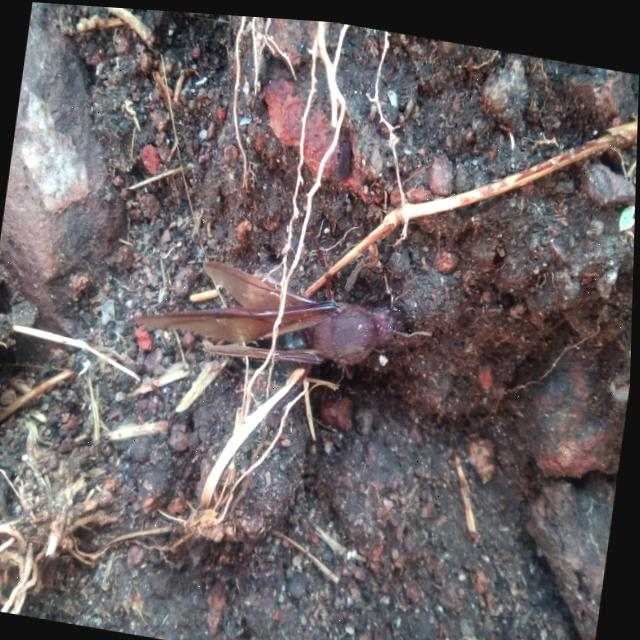Alive-Female-Alate: (124, 193, 446, 436)
